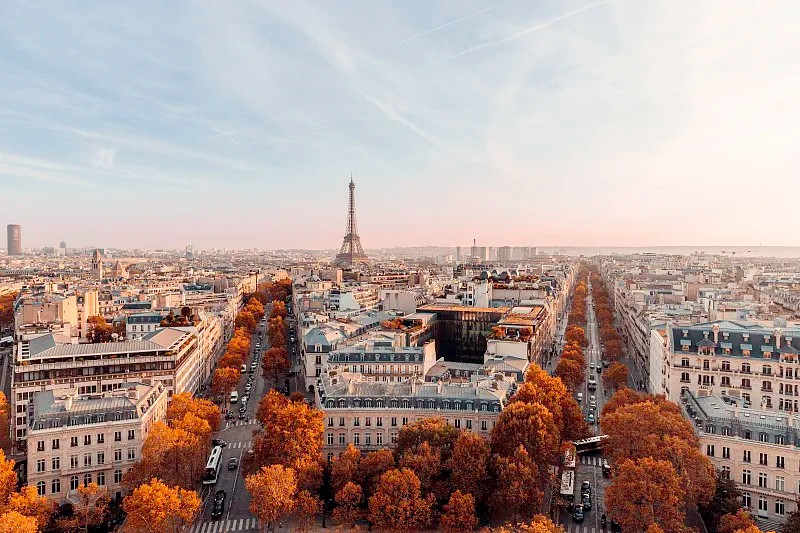Eiffel: (330, 172, 372, 274)
